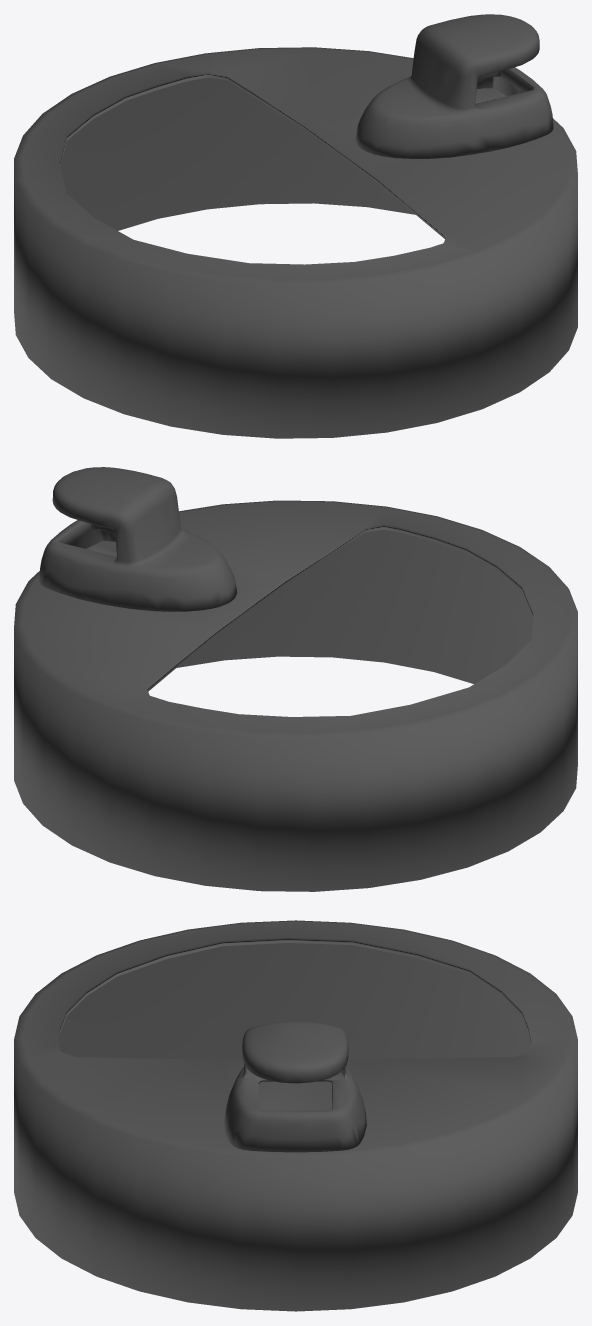
The model's file is base_light.dae.
The picture shows the model from 3 angles, top to bottom: view 1: azimuth 30°, elevation 25°; view 2: azimuth 150°, elevation 25°; view 3: azimuth 270°, elevation 25°; orthographic projection.
Visible parts, largest first — view 1: Base, URG; view 2: Base, URG; view 3: Base, URG.
Boxes of the visible parts, <box> form: Base: <box>14,47,577,438</box>; URG: <box>355,14,553,158</box>; Base: <box>14,500,577,891</box>; URG: <box>39,467,237,611</box>; Base: <box>14,920,577,1311</box>; URG: <box>224,1021,366,1152</box>.
Size of the model in its own units: 0.4306 by 0.4306 by 0.2058.
2 materials, 2 textured.
